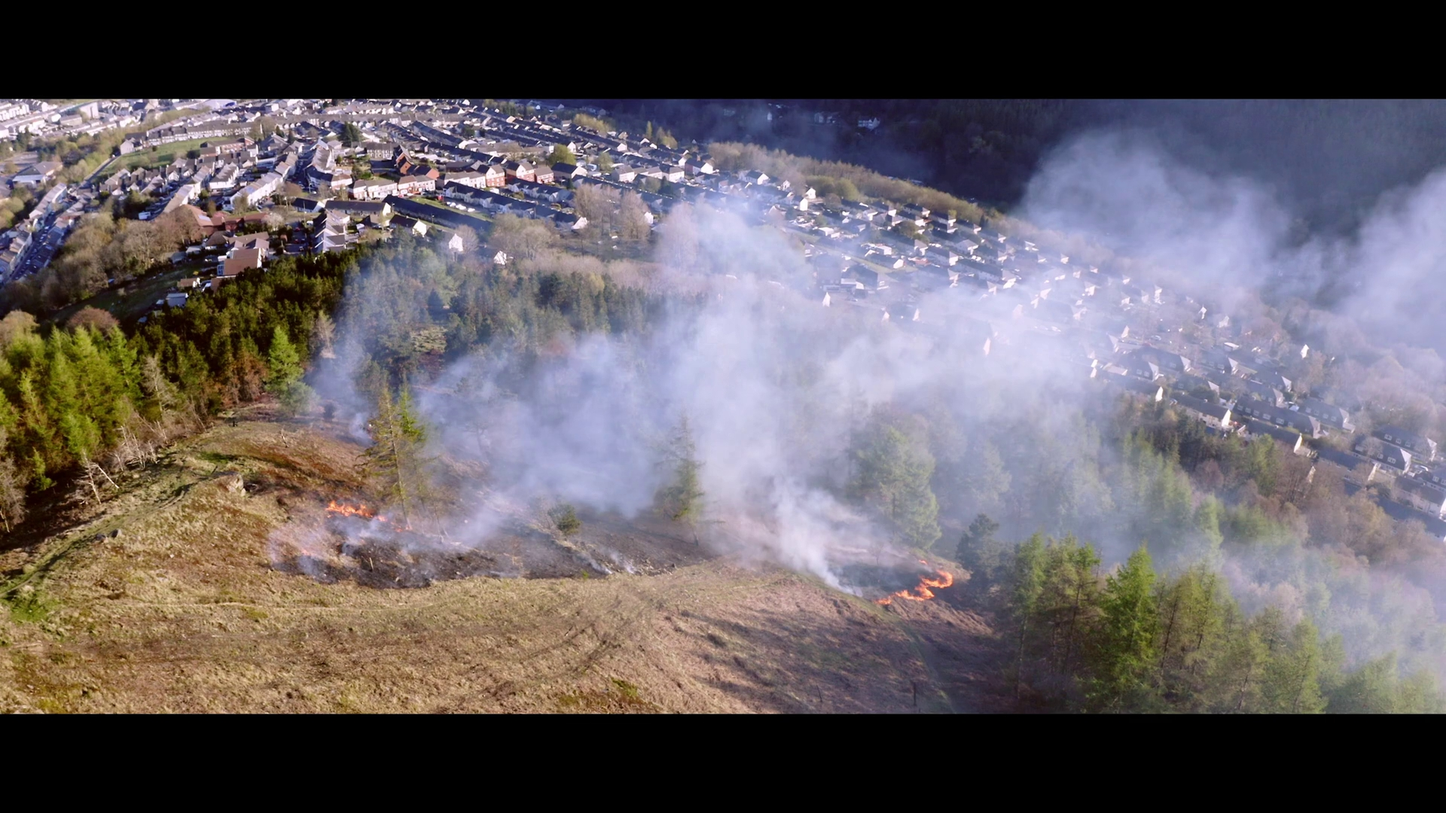forest_fire: (876, 570, 953, 604), (325, 499, 386, 522)
